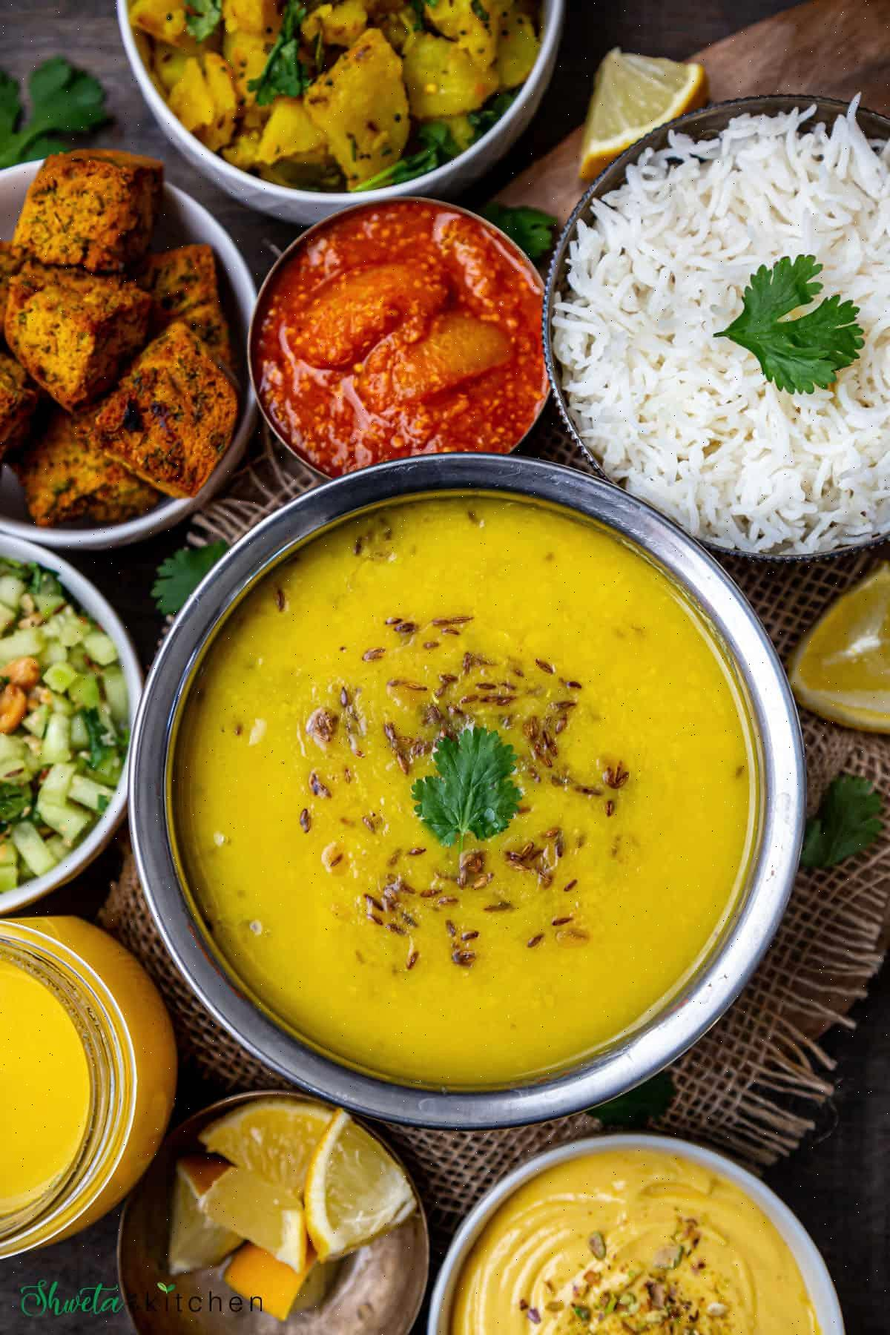aloo sabji: (94, 0, 565, 203)
rice: (564, 110, 890, 546)
varan: (161, 498, 800, 1114)
